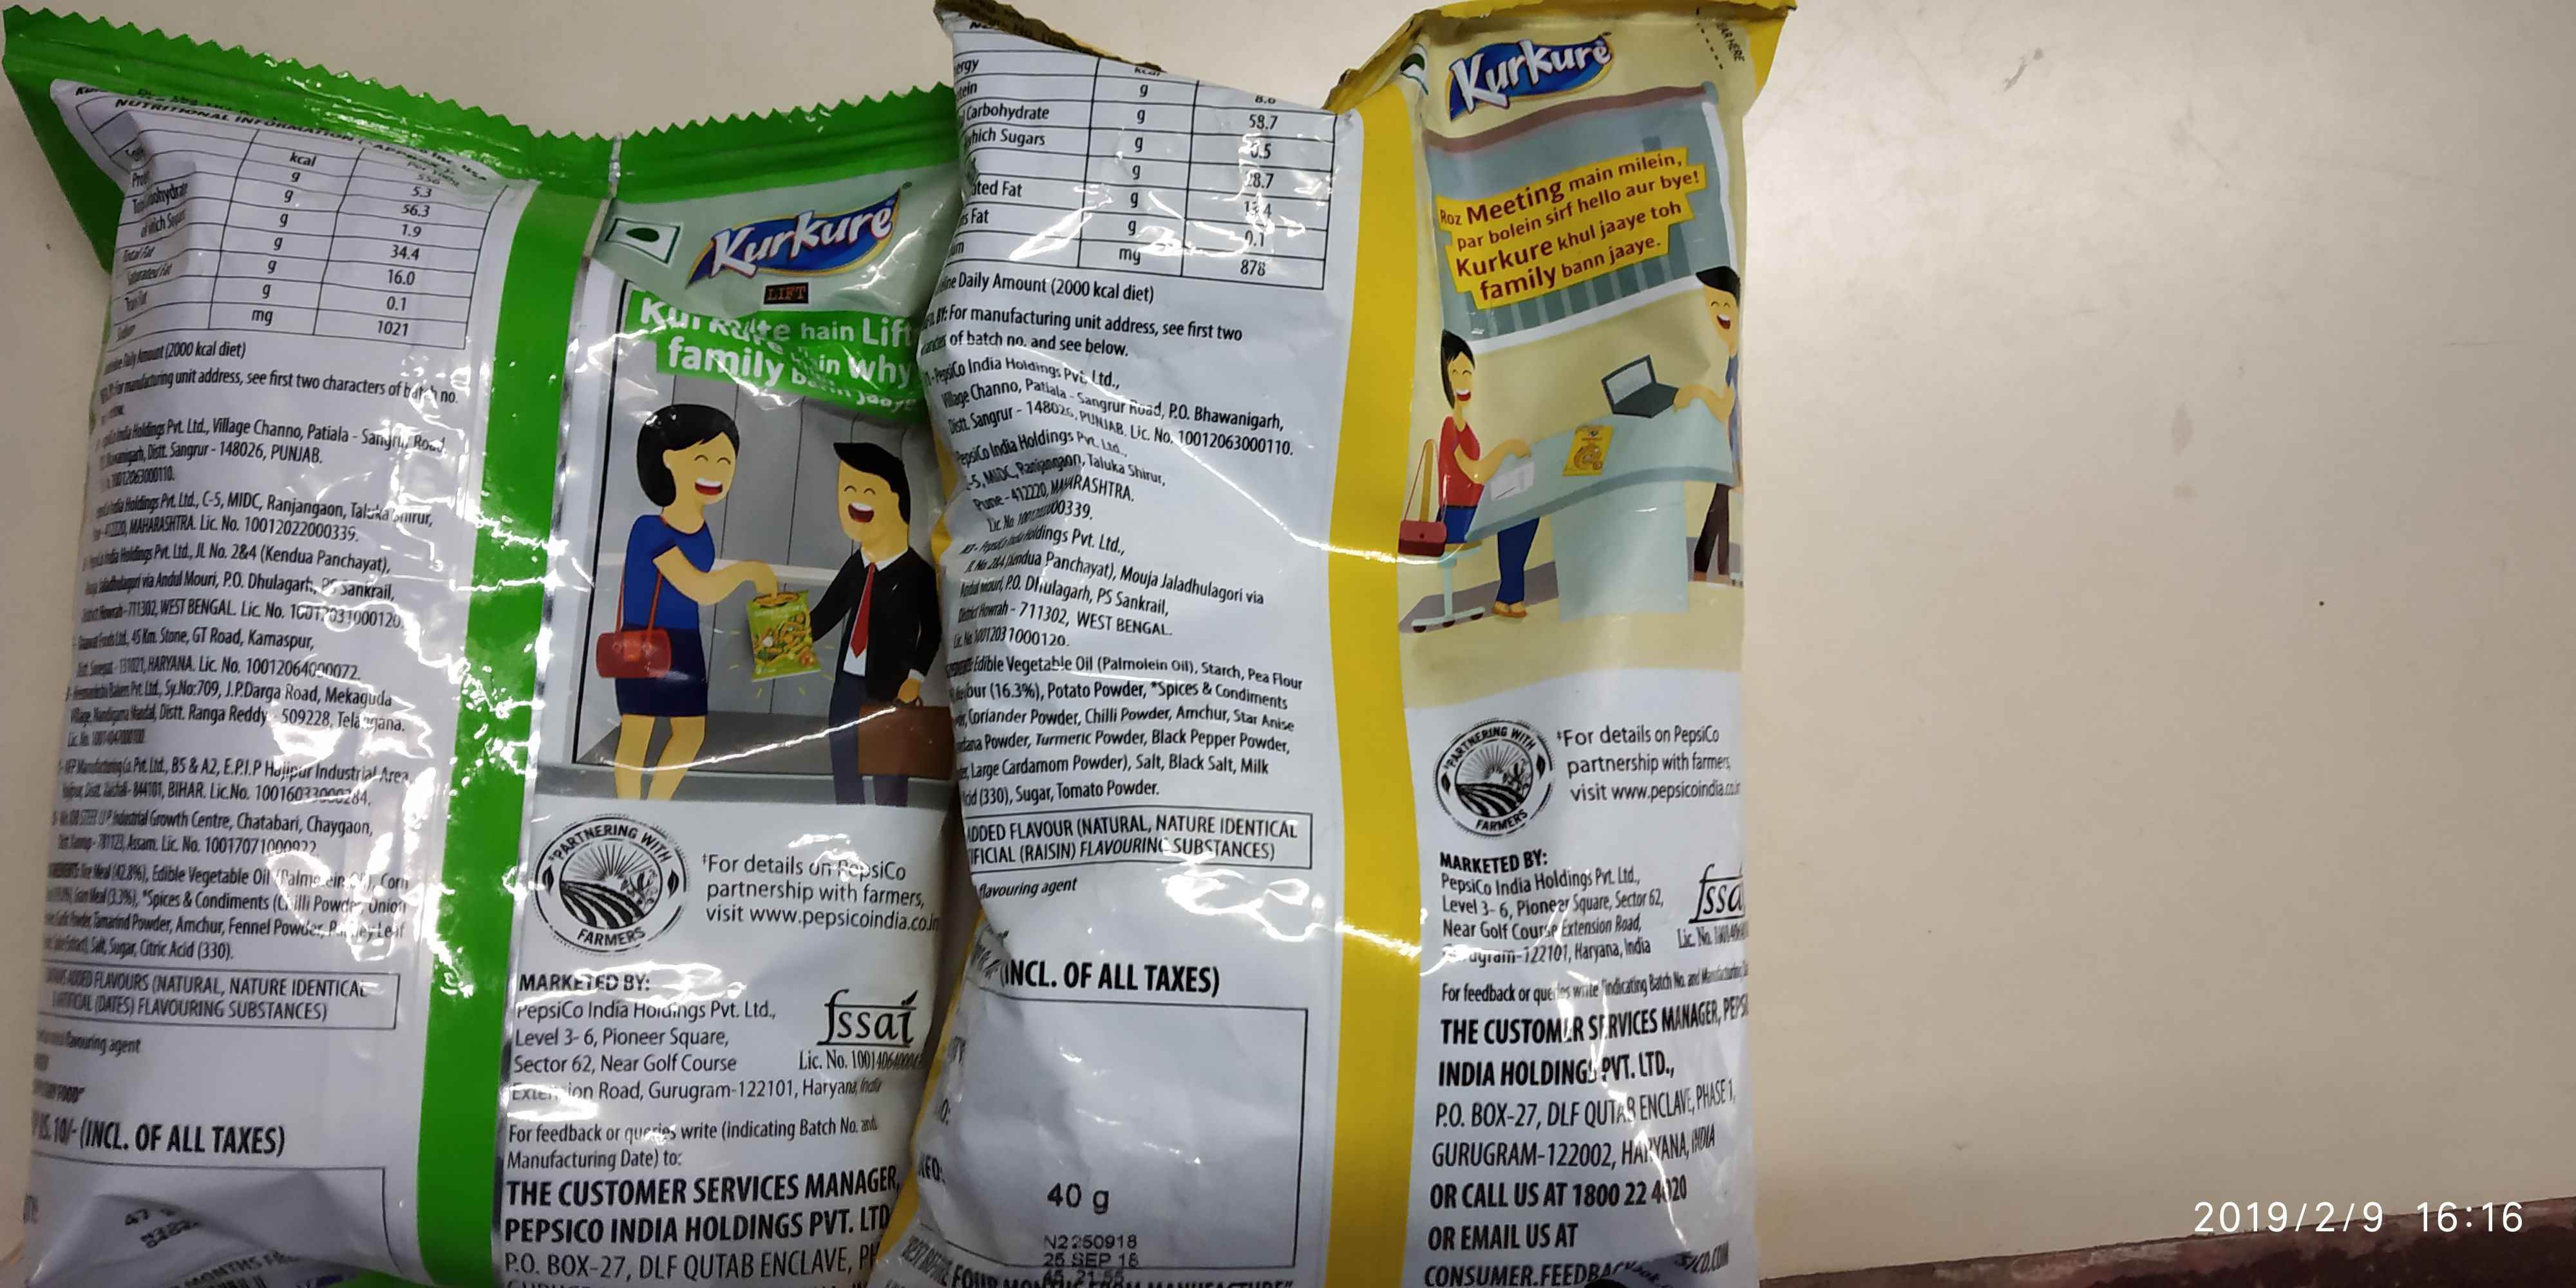kurkure: (677, 174, 940, 309), (1442, 25, 1630, 126)
